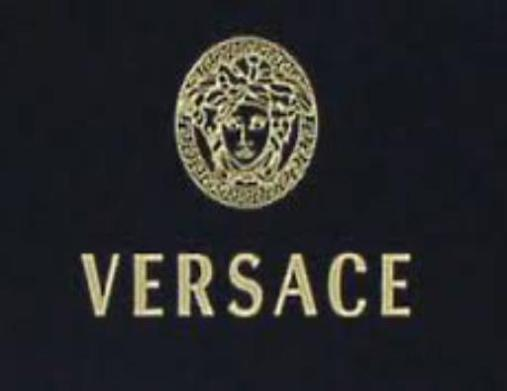VERSACE: (49, 20, 430, 322)
